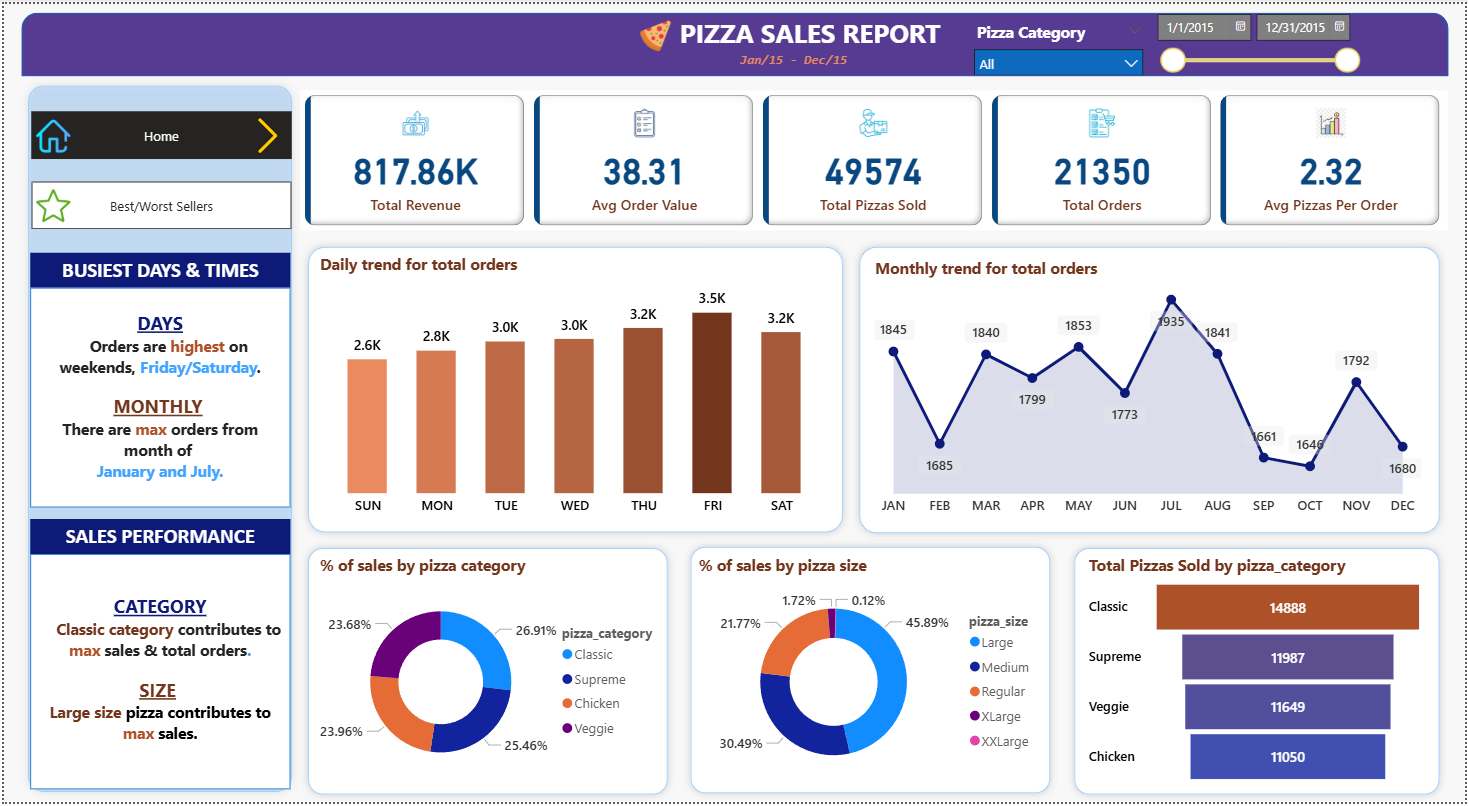

This screenshot's page, from the dashboard's own definition file:
{"tool":"powerbi","page":{"name":"Home","canvas":[1500,820],"ordinal":0},"visuals":[{"type":"cardVisual","fields":{"Data":["pizza_sales.Total Revenue","pizza_sales.Avg Order Value","pizza_sales.Total Pizzas Sold","pizza_sales.Total Orders","pizza_sales.Avg Pizzas Per Order"]},"box":[304,88,1178.7,144],"z":0},{"type":"shape","box":[17.3,9.3,1465.3,65.3],"z":1000},{"type":"textbox","box":[590.7,6.7,474.7,53.3],"z":2000},{"type":"textbox","box":[750.7,42.7,130.7,34.7],"z":3000},{"type":"image","box":[646.7,12,44,42.7],"z":4000},{"type":"shape","box":[17.1,75.7,287.1,741.4],"z":5000},{"type":"shape","box":[304,241.3,565.3,309.3],"z":6000},{"type":"columnChart","title":"Daily trend for total orders","fields":{"Y":["pizza_sales.Total Orders"],"Category":["pizza_sales.Order Day"]},"box":[320.2,255,534.1,279.1],"z":7000},{"type":"shape","box":[869.9,240.8,612,310.3],"z":8000},{"type":"areaChart","title":"Monthly trend for total orders","fields":{"Category":["pizza_sales.Order Month"],"Y":["pizza_sales.Total Orders"]},"box":[889.7,259.3,570.9,274.8],"z":9000},{"type":"shape","box":[304.6,551.1,385.4,269.2],"z":10000},{"type":"shape","box":[697,549.7,385.4,269.2],"z":11000},{"type":"shape","box":[1090.9,551.1,391,269.2],"z":12000},{"type":"donutChart","title":"% of sales by pizza category","fields":{"Category":["pizza_sales.pizza_category"],"Y":["pizza_sales.Total Revenue"]},"box":[320,564.3,367.1,241.4],"z":13000},{"type":"donutChart","title":"% of sales by pizza size","fields":{"Y":["pizza_sales.Total Revenue"],"Category":["pizza_sales.pizza_size"]},"box":[708.6,564.3,367.1,241.4],"z":14000},{"type":"funnel","fields":{"Y":["pizza_sales.Total Pizzas Sold"],"Category":["pizza_sales.pizza_category"]},"box":[1108.6,564.3,354.3,241.4],"z":15000},{"type":"textbox","box":[27.1,255.7,267.1,35.7],"z":16000},{"type":"textbox","box":[27.1,291.4,267.1,225.7],"z":17000},{"type":"textbox","box":[27.1,528.6,267.1,35.7],"z":18000},{"type":"textbox","box":[27.1,564.3,267.1,241.4],"z":19000},{"type":"slicer","fields":{"Values":["pizza_sales.pizza_category"]},"box":[985.7,12.9,194.3,60],"z":20000},{"type":"slicer","fields":{"Values":["pizza_sales.order_date"]},"box":[1171.4,0,228.6,81.4],"z":21000},{"type":"pageNavigator","box":[28.3,110.5,267.8,49.6],"z":21001},{"type":"pageNavigator","box":[28.3,182.8,267.8,49.6],"z":21002},{"type":"image","box":[247.9,110.5,46.8,49.6],"z":21003},{"type":"image","box":[28.3,111.9,45.3,48.2],"z":21004},{"type":"image","box":[28.3,182.8,45.3,49.6],"z":21005}]}

Visuals, with their boxes in screenshot pixels (x1, y1, x2, y2), scaled from the page's 1500x820 canvas onto the 1468x806 screenshot:
cardVisual - pizza_sales.Total Revenue x pizza_sales.Avg Order Value: bbox(298, 86, 1451, 228)
shape: bbox(17, 9, 1451, 73)
textbox: bbox(578, 7, 1043, 59)
textbox: bbox(735, 42, 863, 76)
image: bbox(633, 12, 676, 54)
shape: bbox(17, 74, 298, 803)
shape: bbox(298, 237, 851, 541)
"Daily trend for total orders" columnChart: bbox(313, 251, 836, 525)
shape: bbox(851, 237, 1450, 542)
"Monthly trend for total orders" areaChart: bbox(871, 255, 1429, 525)
shape: bbox(298, 542, 675, 805)
shape: bbox(682, 540, 1059, 805)
shape: bbox(1068, 542, 1450, 805)
"% of sales by pizza category" donutChart: bbox(313, 555, 672, 792)
"% of sales by pizza size" donutChart: bbox(693, 555, 1053, 792)
funnel - pizza_sales.Total Pizzas Sold x pizza_sales.pizza_category: bbox(1085, 555, 1432, 792)
textbox: bbox(27, 251, 288, 286)
textbox: bbox(27, 286, 288, 508)
textbox: bbox(27, 520, 288, 555)
textbox: bbox(27, 555, 288, 792)
slicer - pizza_sales.pizza_category: bbox(965, 13, 1155, 72)
slicer - pizza_sales.order_date: bbox(1146, 0, 1370, 80)
pageNavigator: bbox(28, 109, 290, 157)
pageNavigator: bbox(28, 180, 290, 228)
image: bbox(243, 109, 288, 157)
image: bbox(28, 110, 72, 157)
image: bbox(28, 180, 72, 228)
